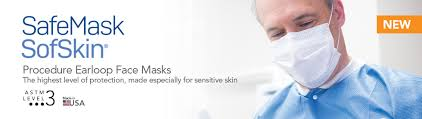masked: (245, 1, 350, 90)
